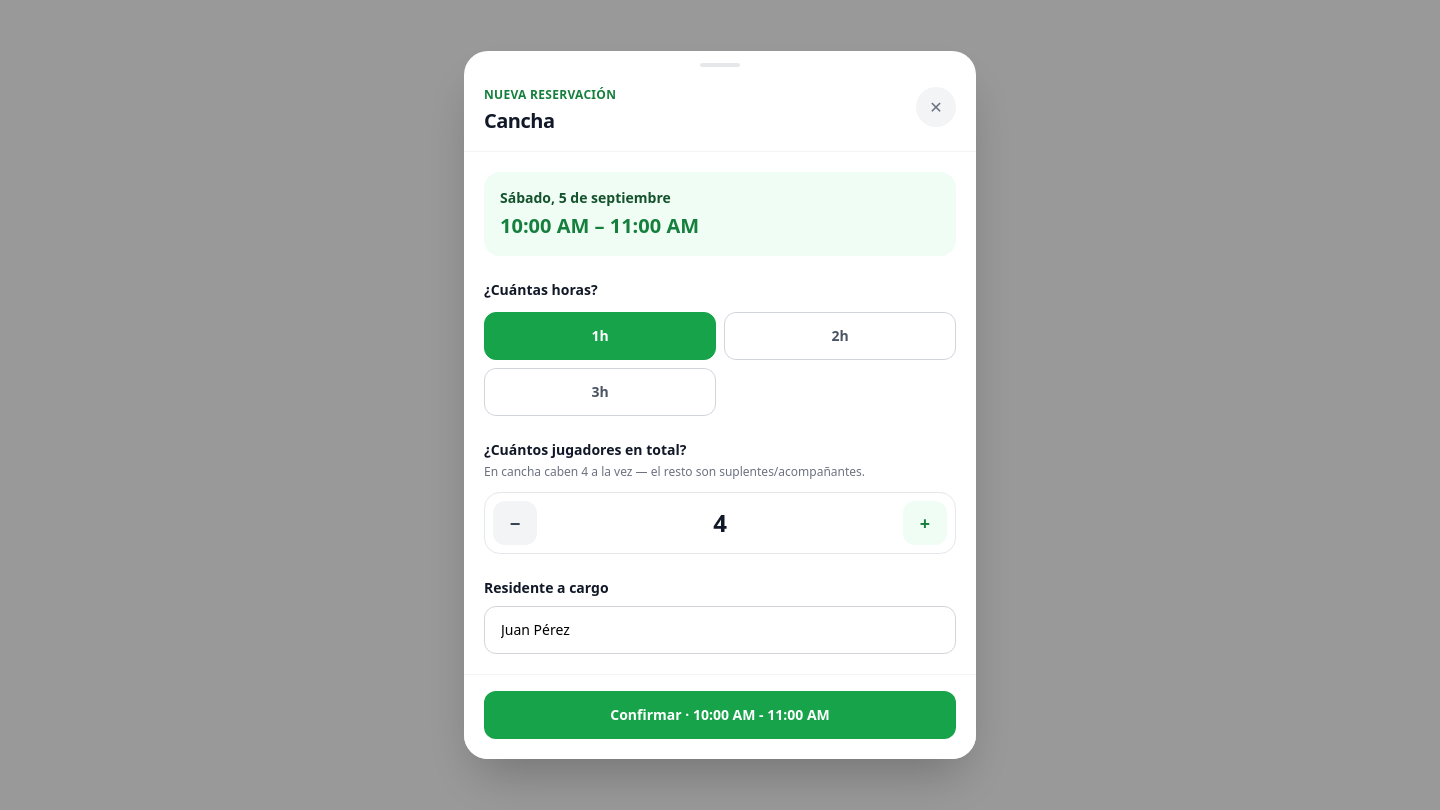
Test: BookingSheet › deshabilita el botón de confirmar cuando el nombre del residente está vacío
Clear the field with placeholder "Nombre del residente a cargo" at coordinates (720, 630), box x1=484 y1=606 x2=956 y2=654
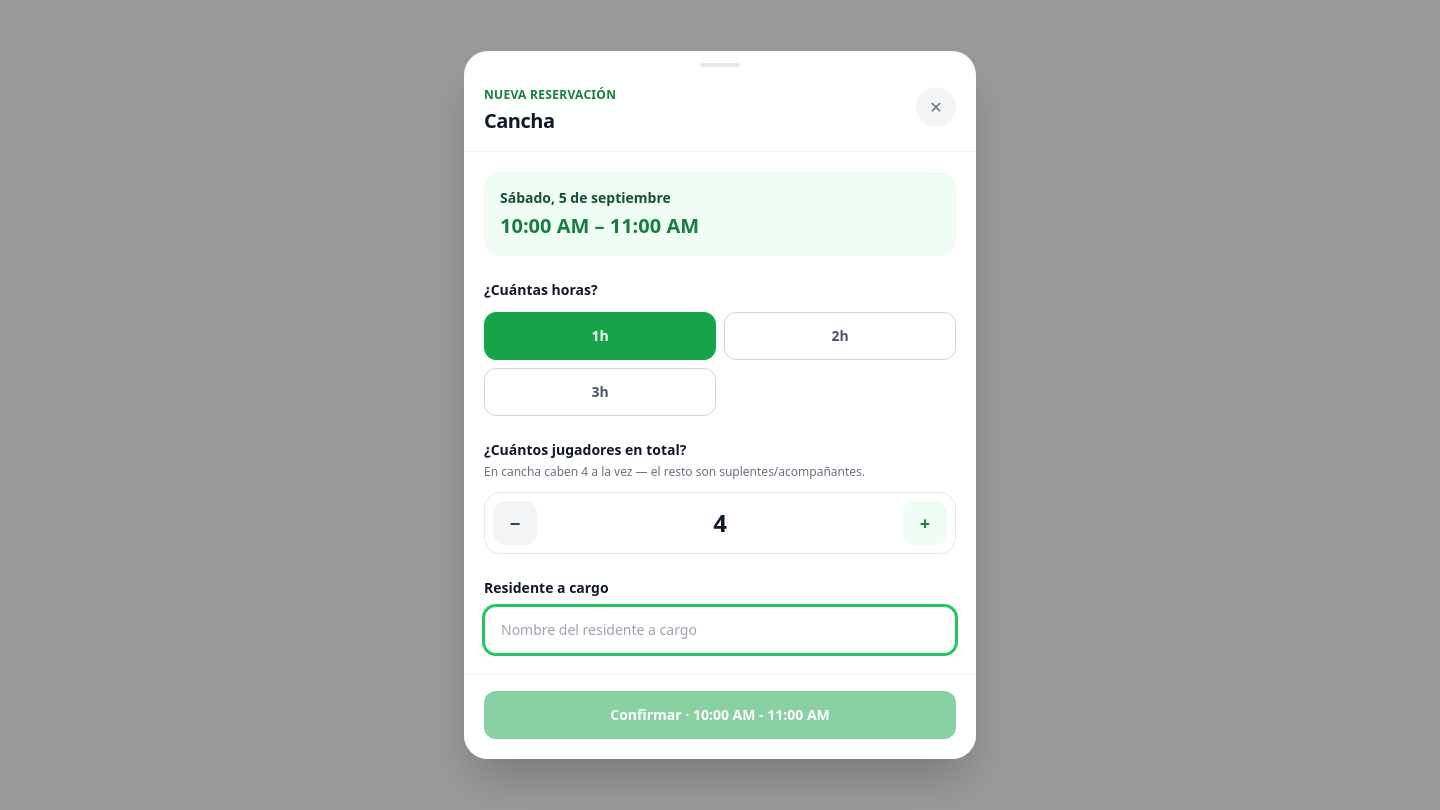
Expected: the button "Confirmar · 10:00 AM - 11:00 AM" is disabled, x1=484 y1=691 x2=956 y2=739
